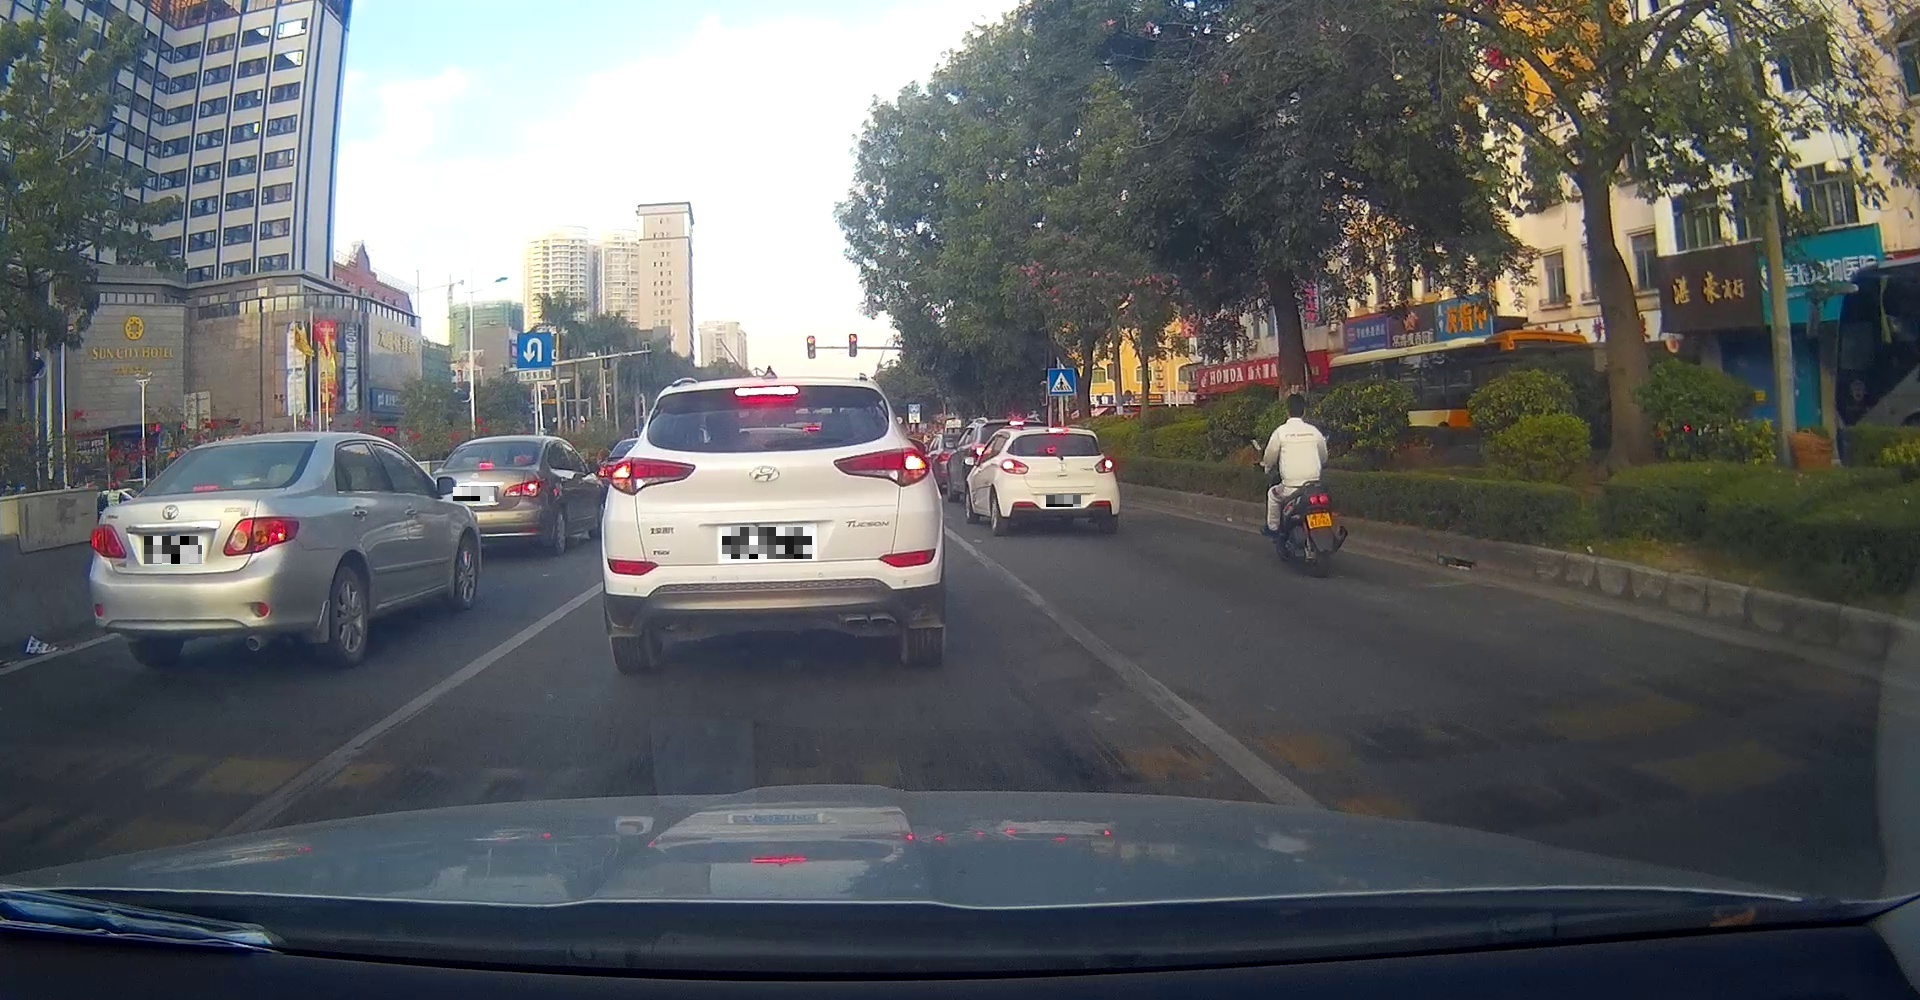L_light: (608, 456, 695, 495), (90, 523, 126, 558), (1001, 459, 1029, 475)
R_light: (833, 447, 931, 487), (222, 516, 300, 556), (1095, 457, 1114, 473)
T_light: (734, 385, 799, 397), (193, 485, 221, 492), (1048, 428, 1068, 434)
day-brake: (601, 377, 946, 674), (89, 431, 317, 666), (1001, 426, 1120, 536)
plate_1: (143, 536, 202, 563)
plate_2: (453, 487, 494, 501)
plate_3: (723, 527, 811, 558)
plate_4: (1046, 495, 1081, 508)
